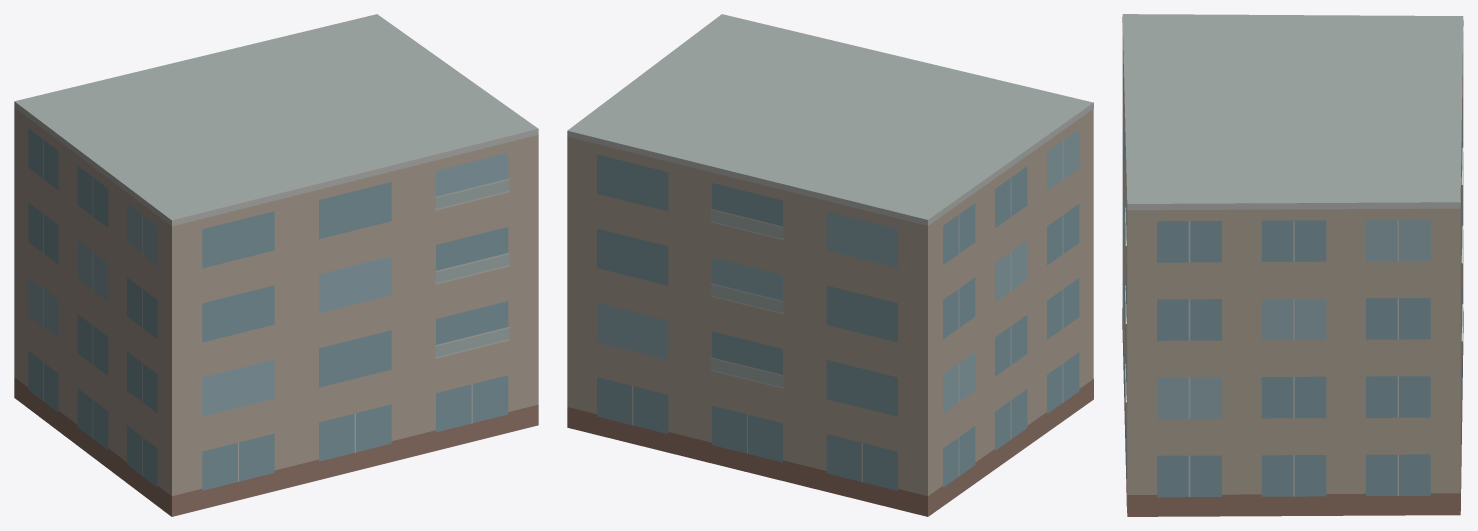
Rendered from survey-upis-32778829.glb.
The picture shows the model from 3 angles, left to right: view 1: azimuth 30°, elevation 25°; view 2: azimuth 150°, elevation 25°; view 3: azimuth 270°, elevation 25°; orthographic projection. The views are drawn at different scales.
Parts seen in each view (by area): view 1: survey-upis-32778829.tmp; view 2: survey-upis-32778829.tmp; view 3: survey-upis-32778829.tmp.
Boxes of the visible parts, x1=… form: survey-upis-32778829.tmp: x1=14, y1=14, x2=538, y2=516; survey-upis-32778829.tmp: x1=567, y1=14, x2=1093, y2=516; survey-upis-32778829.tmp: x1=1122, y1=14, x2=1463, y2=516.
Bounding box in the file's own units: 15.77 × 12.1 × 11.96.
